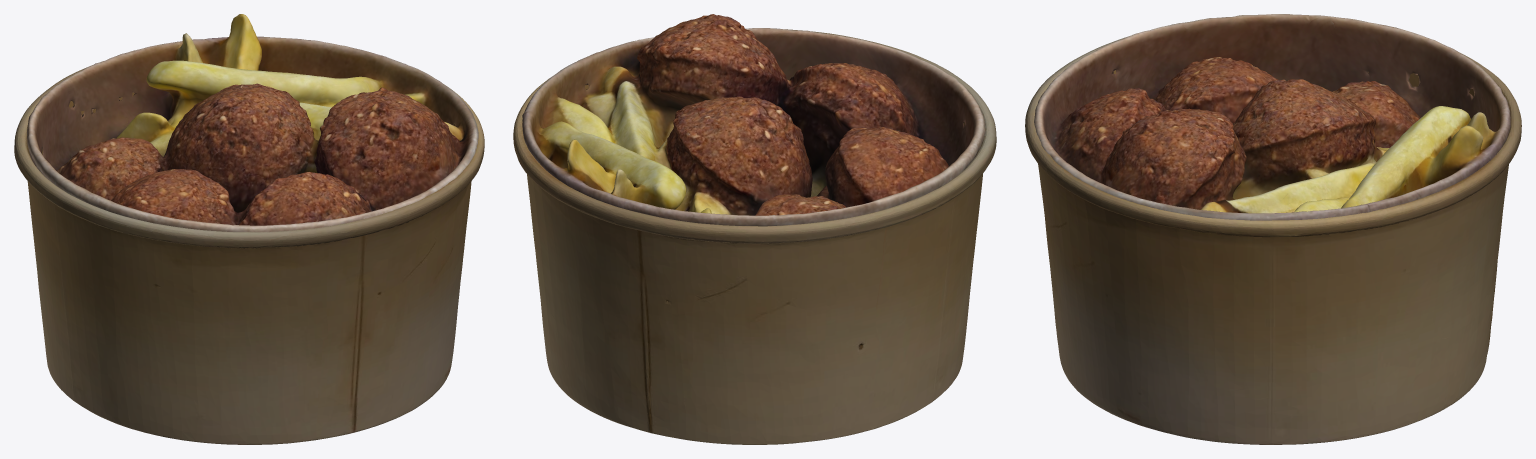
The model's file is felalfel,bowl.glb.
3 views of the same model, side by side, from view 1: azimuth 30°, elevation 25°; view 2: azimuth 150°, elevation 25°; view 3: azimuth 270°, elevation 25° (orthographic). The views are drawn at different scales.
Visible parts, largest first — view 1: world.001, 3DModel; view 2: world.001, 3DModel; view 3: world.001, 3DModel.
Part boxes in pixels (box(x1,y1,x2,y2)): world.001: box(14, 61, 484, 444); 3DModel: box(26, 14, 478, 231); world.001: box(513, 29, 996, 444); 3DModel: box(522, 14, 985, 226); world.001: box(1025, 37, 1521, 444); 3DModel: box(1034, 14, 1510, 220).
Size of the model in its own units: 0.2281 by 0.1457 by 0.228.
2 materials, 2 textured.
